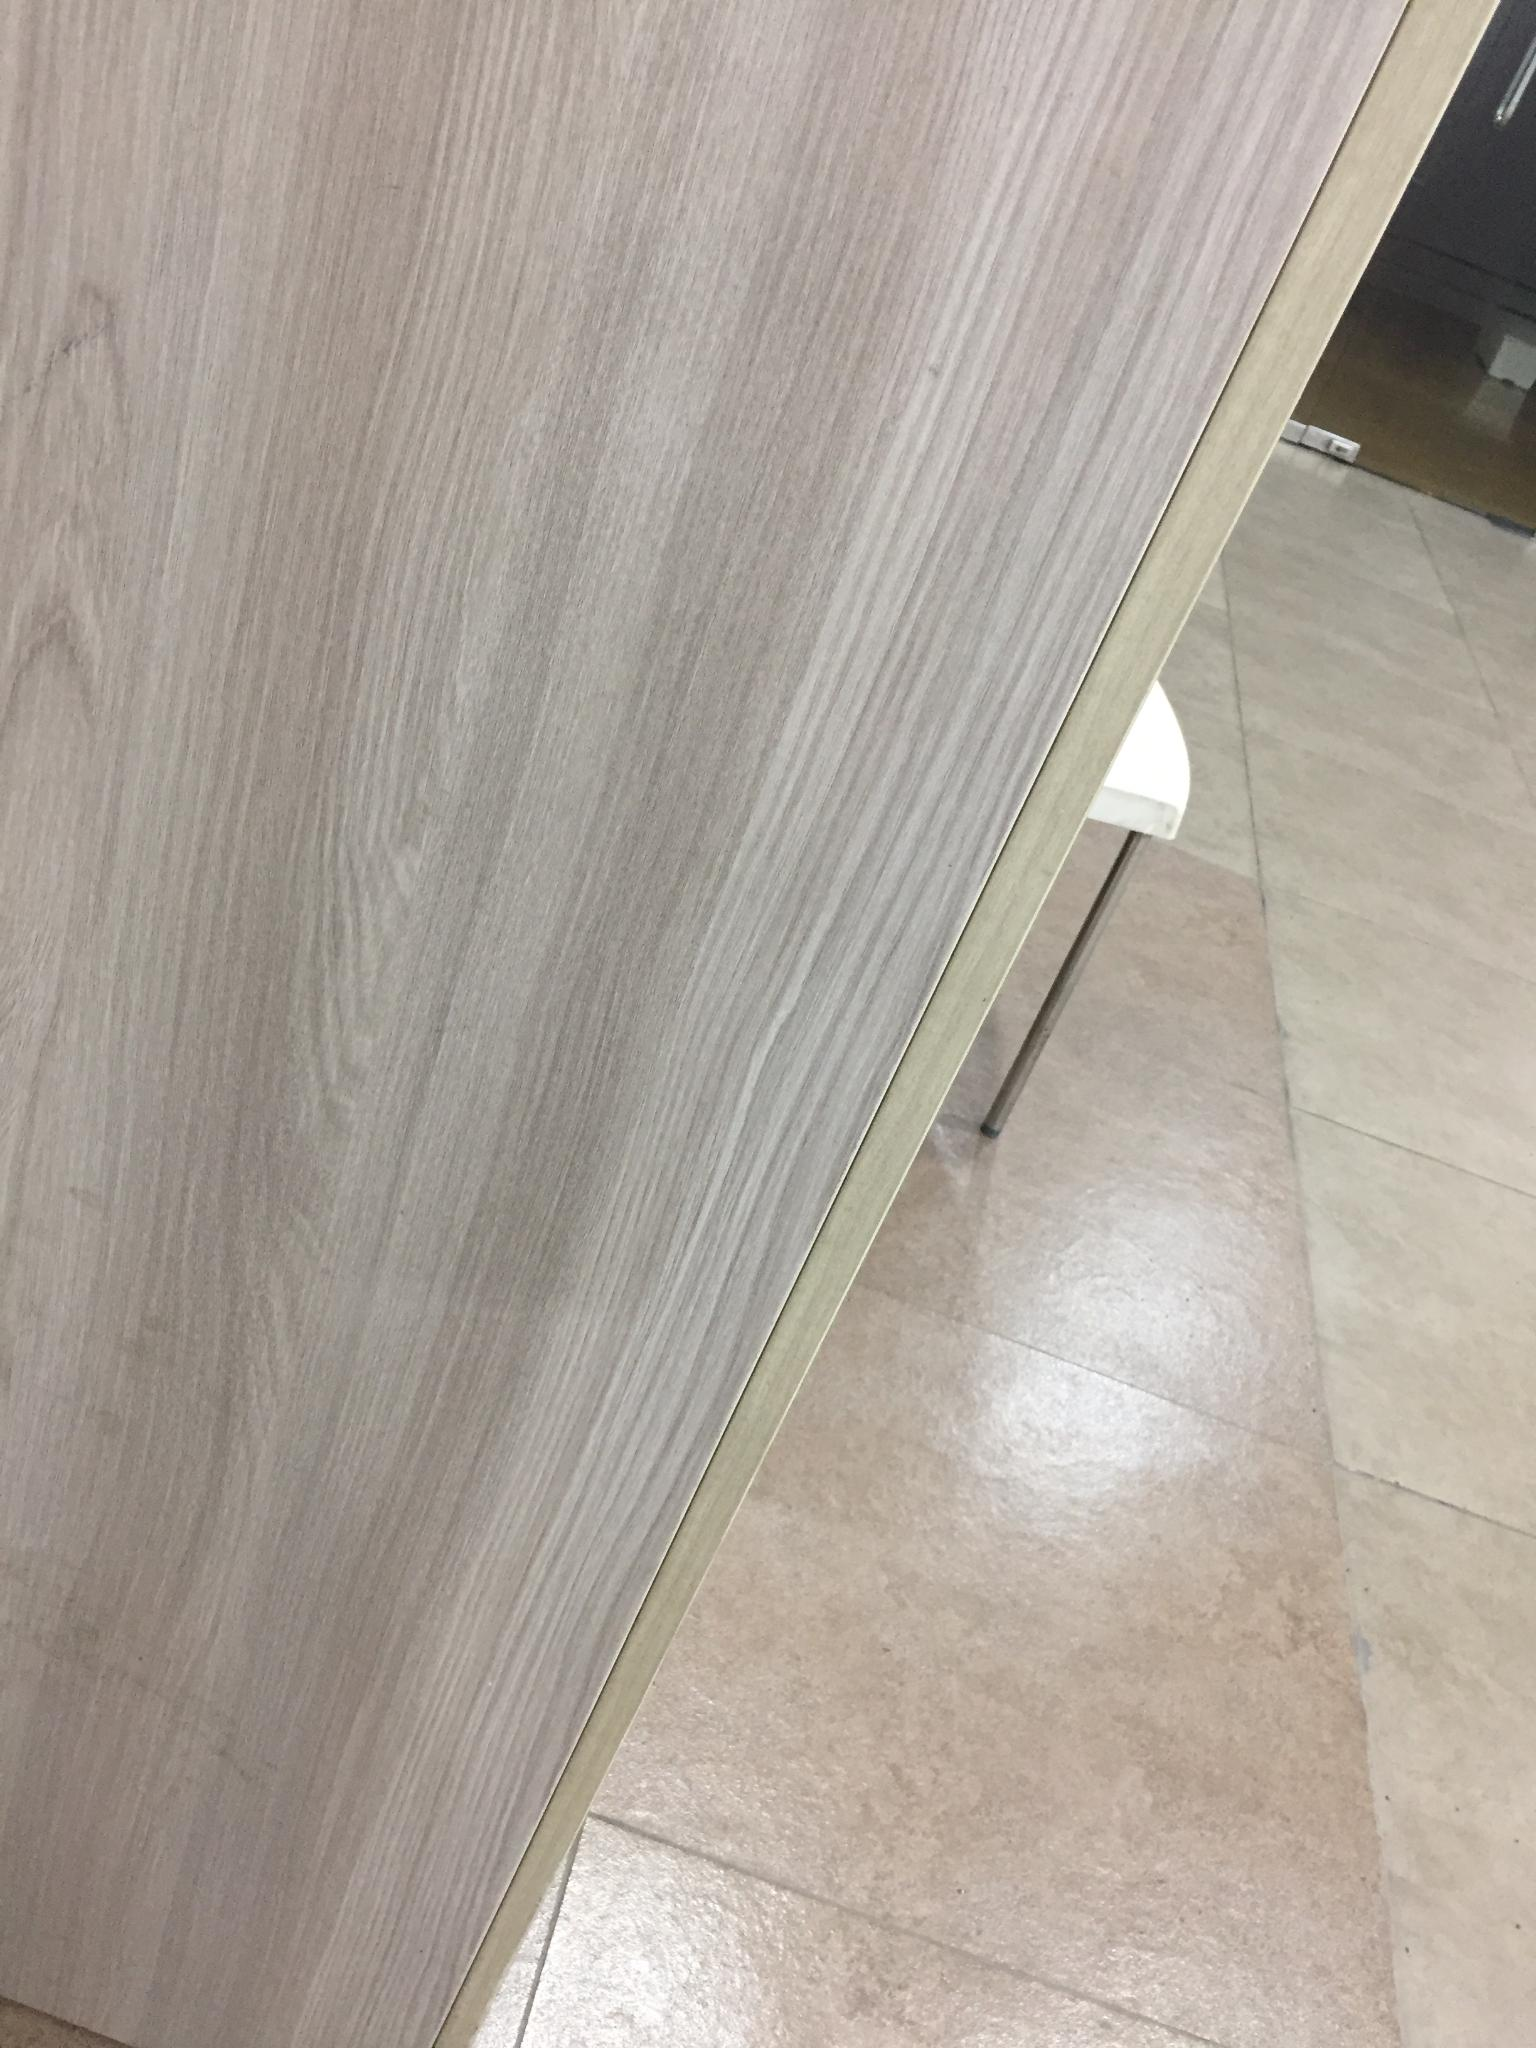chair: (978, 674, 1192, 1138)
